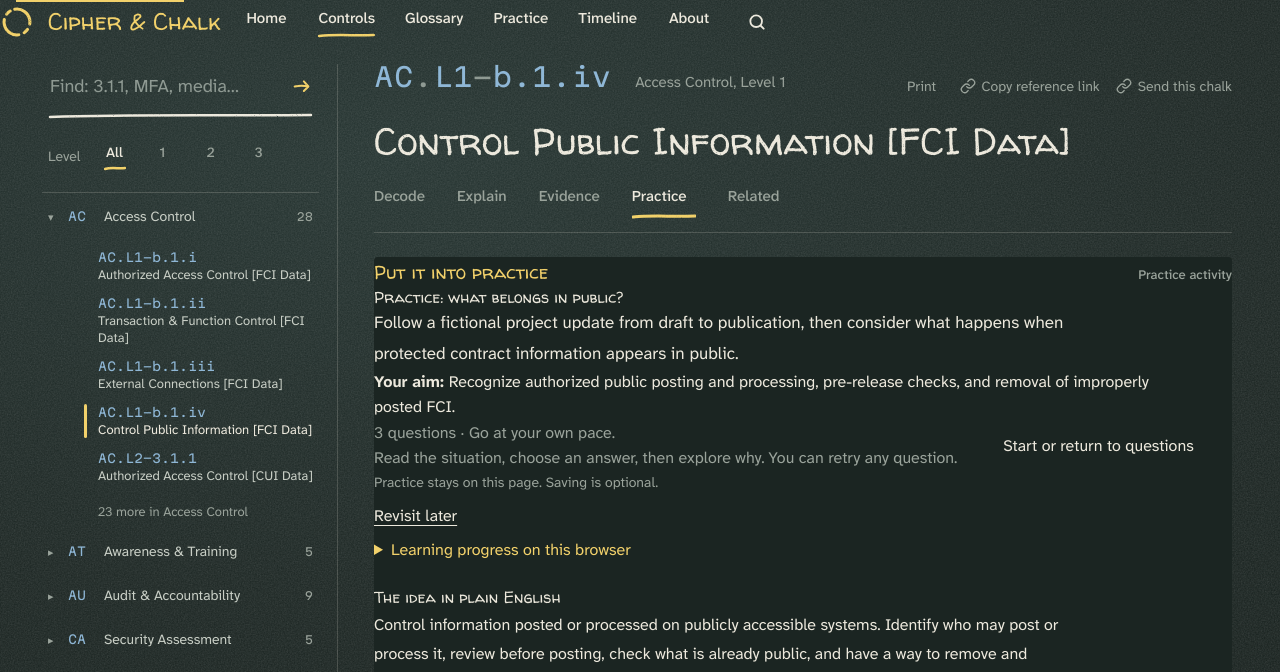
it: Control views › offers its views and keeps the practice on its own view for level-one-public-information
Expected: the heading "Control Public Information [FCI Data]" is shown, x1=374 y1=115 x2=1070 y2=167
Expected: the heading "Practice: what belongs in public?" is shown, x1=374 y1=287 x2=623 y2=307
Click the link "Decode" at (399,196), box x1=374 y1=186 x2=425 y2=206
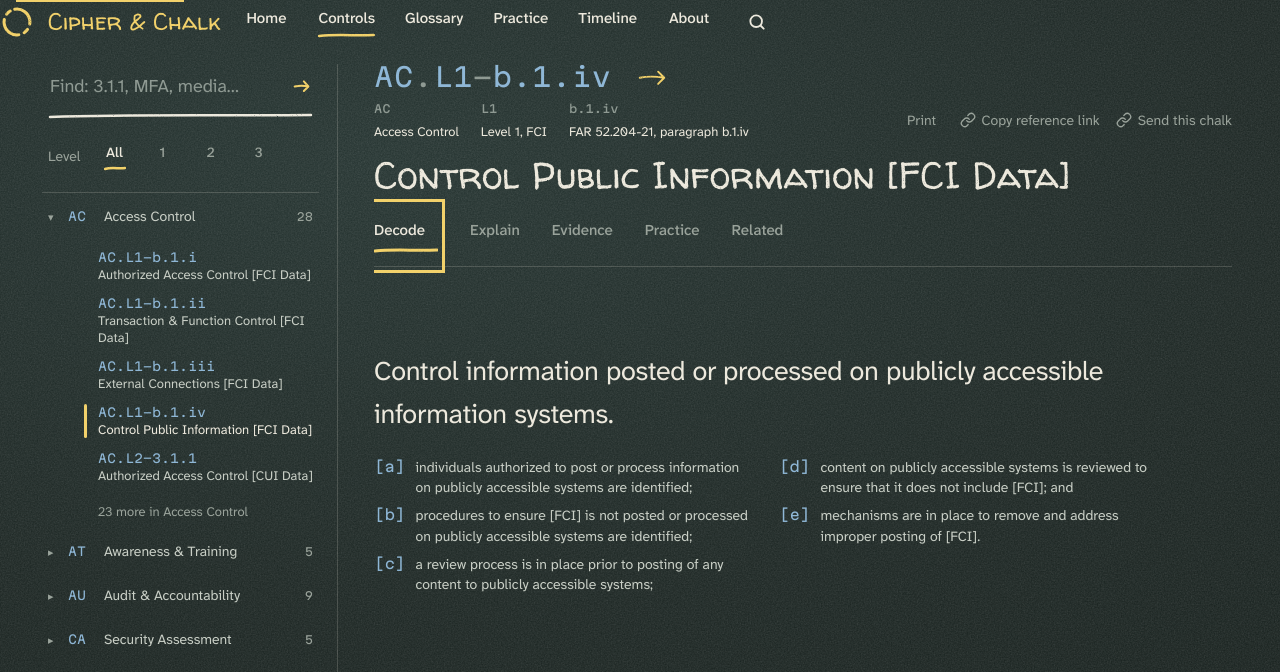
Result: the heading "Practice: what belongs in public?" is gone
